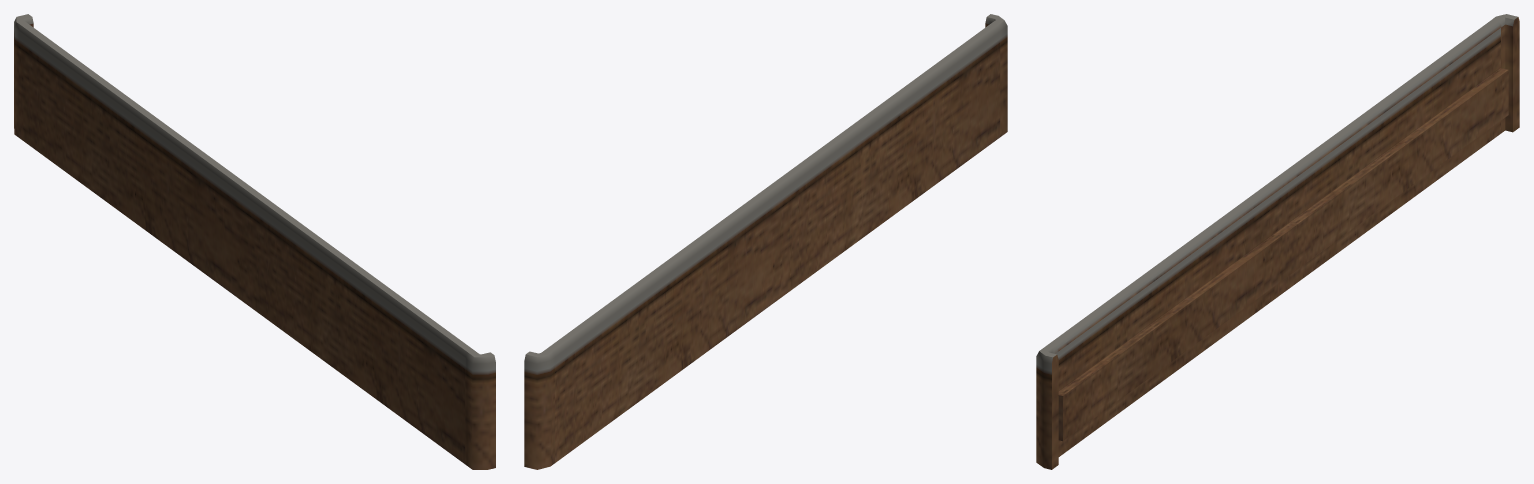
File: HH_Wall_Guard_2m_02.fbx
3 views of the same model, side by side, from view 1: azimuth 30°, elevation 25°; view 2: azimuth 150°, elevation 25°; view 3: azimuth 330°, elevation 25° (orthographic).
Visible parts, largest first — view 1: HH_Wall_Guard_2m_02; view 2: HH_Wall_Guard_2m_02; view 3: HH_Wall_Guard_2m_02.
Part boxes in pixels (bbox=[...]): HH_Wall_Guard_2m_02: bbox=[14, 14, 495, 469]; HH_Wall_Guard_2m_02: bbox=[524, 14, 1007, 469]; HH_Wall_Guard_2m_02: bbox=[1036, 14, 1519, 469].
Size of the model in its own units: 5.01 by 27.63 by 210.
